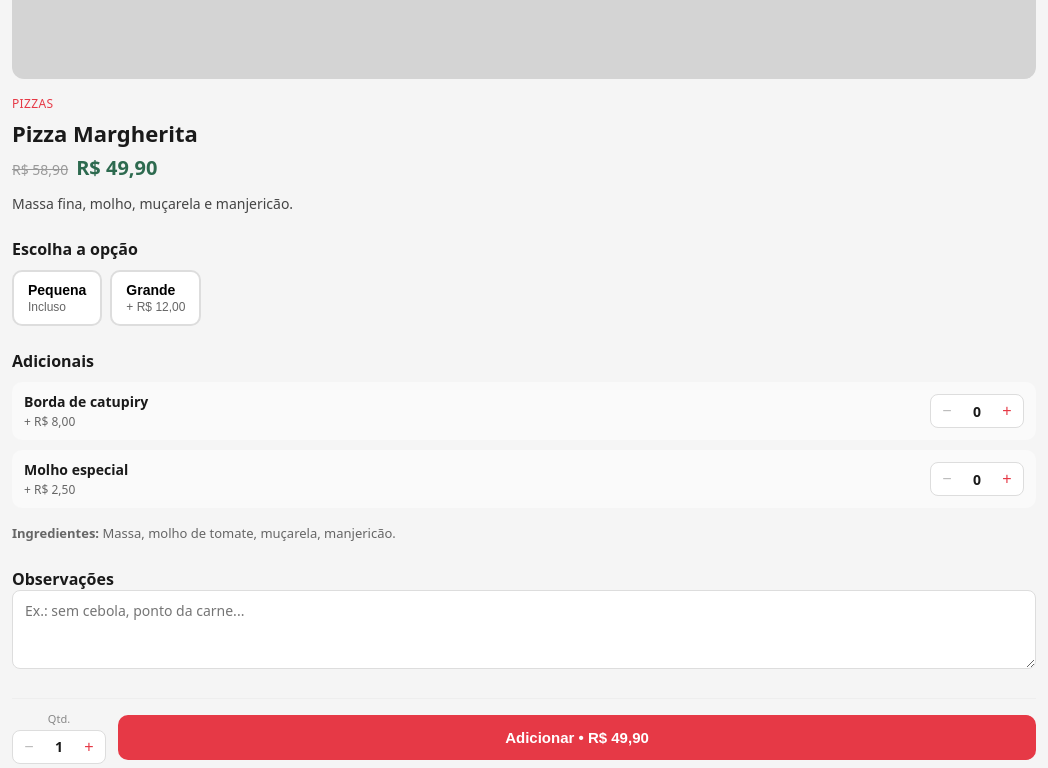
Test: ProductDetail › adds product to cart and navigates to cart page
The width and height of the screenshot is (1048, 768).
(page scrolled)
Expected: the heading "Pizza Margherita" is shown, 12,118 -> 198,148
Click the button "Adicionar • R$ 49,90".
click(577, 737)  # box 118,715 -> 1036,760
(page scrolled)
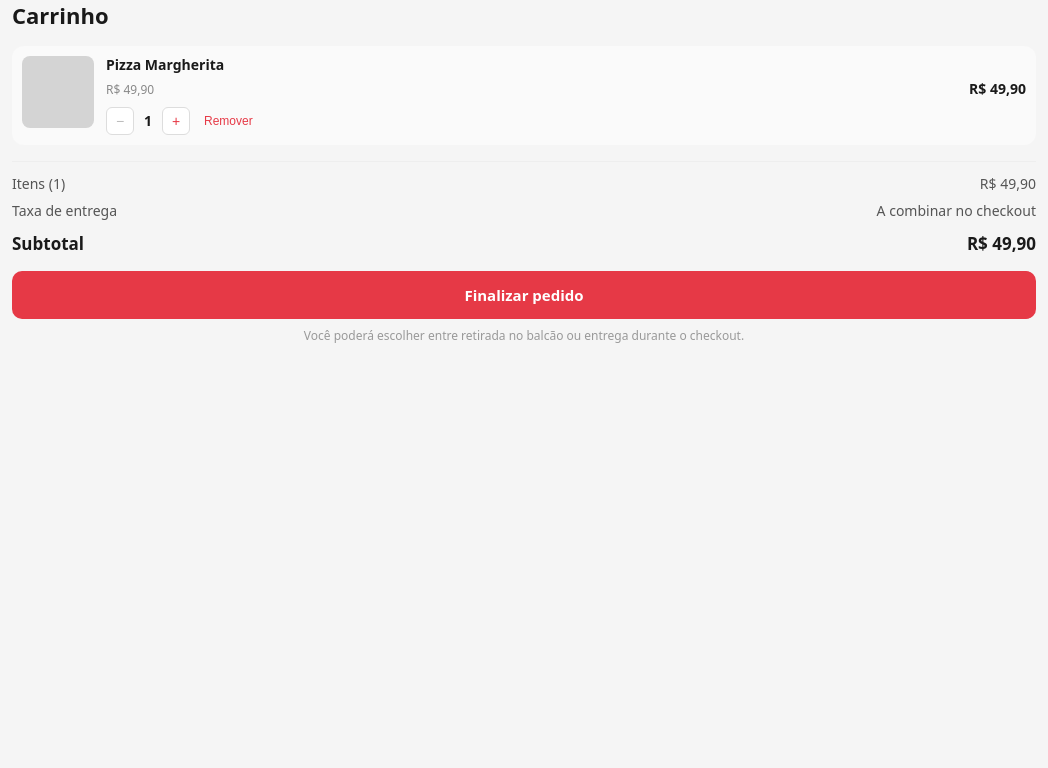
Expected: the text "Pizza Margherita" is shown, 106,55 -> 224,74
Expected: the link "Finalizar pedido" is shown, 12,270 -> 1036,318
Expected: the 1st text "R$ 49,90" is shown, 106,80 -> 154,98
